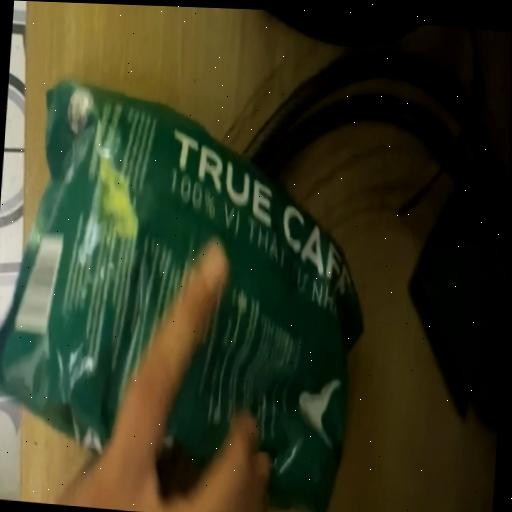cafe_xay: (0, 81, 362, 512)
